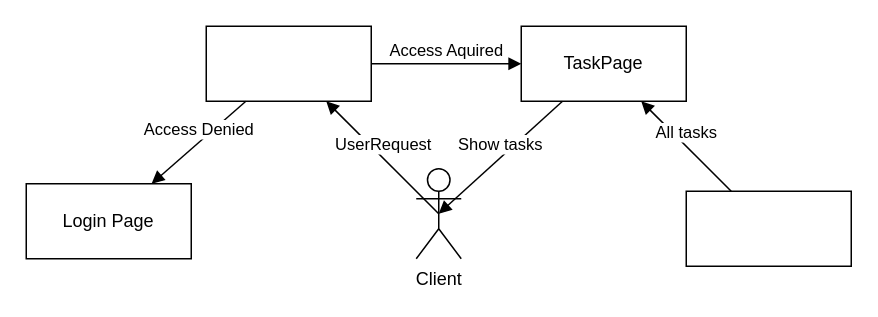
This 878x317 diagram has some shape labels left out. The centre of each missing label's shape, as x and y in pixels:
Login server: point (288, 63)
Task server: point (768, 228)
